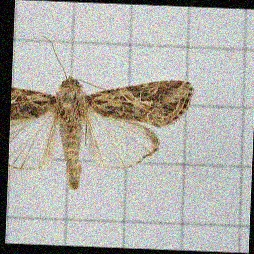Spodoptera litura: (11, 37, 194, 192)
